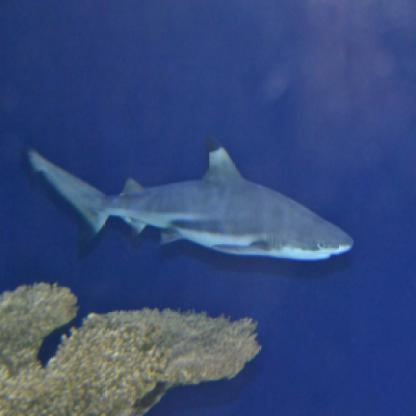shark: (21, 140, 361, 274)
